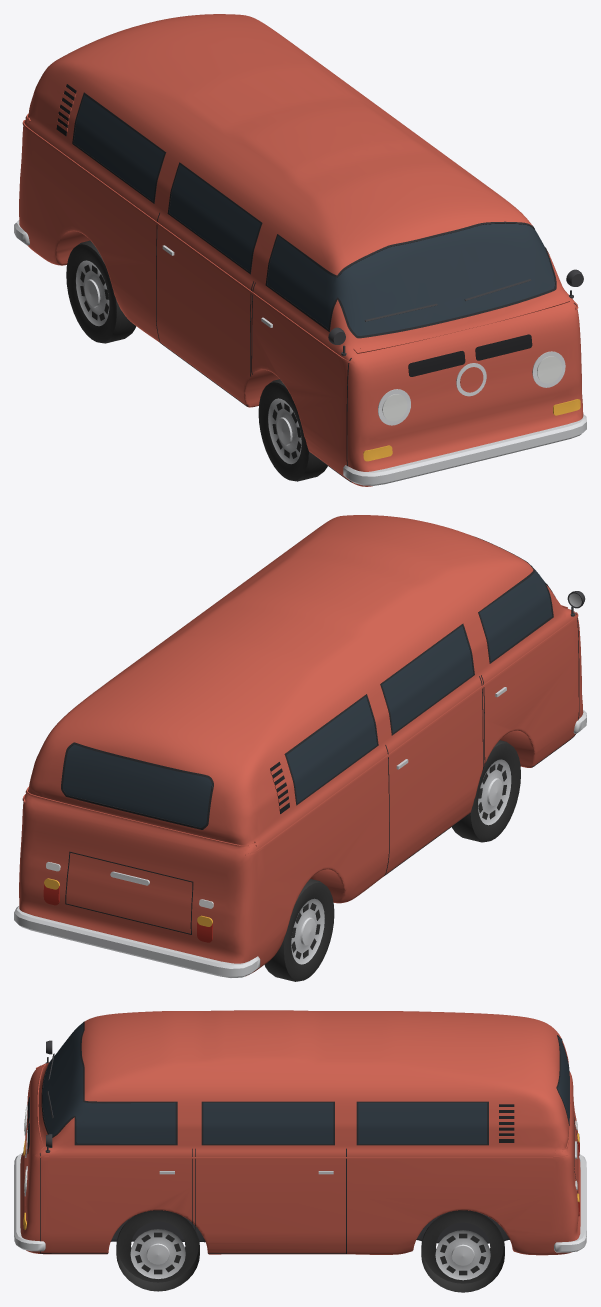
3 views of the same model, one above another, from view 1: azimuth 30°, elevation 25°; view 2: azimuth 150°, elevation 25°; view 3: azimuth 270°, elevation 25° (orthographic). The views are drawn at different scales.
Parts seen in each view (by area): view 1: paint, glass, trim, wheel_rr, wheel_fr, headlights; view 2: paint, glass, trim, wheel_rr, wheel_fr; view 3: paint, glass, trim, wheel_rl, wheel_fl.
Part boxes in pixels (x1,y1,x2,y2): paint: [19, 14, 583, 486]; glass: [73, 95, 554, 335]; trim: [14, 84, 586, 485]; wheel_rr: [66, 240, 136, 343]; wheel_fr: [258, 379, 327, 481]; headlights: [382, 356, 561, 421]; paint: [19, 515, 583, 976]; glass: [63, 565, 552, 827]; trim: [14, 537, 586, 977]; wheel_rr: [264, 879, 334, 981]; wheel_fr: [452, 740, 520, 842]; paint: [20, 1010, 580, 1255]; glass: [42, 1023, 569, 1143]; trim: [14, 1021, 586, 1253]; wheel_rl: [421, 1210, 504, 1292]; wheel_fl: [116, 1210, 199, 1291].
Size of the model in its own units: 1.85 by 1.93 by 4.51.
